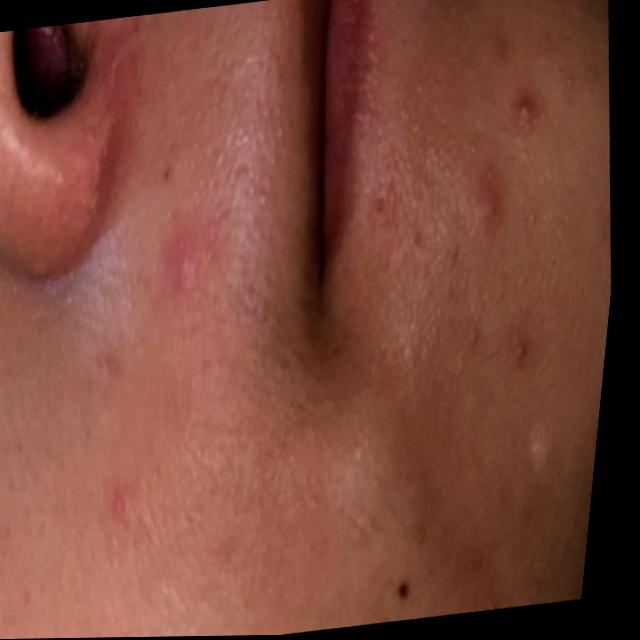papule: (464, 62, 566, 257), (169, 217, 223, 337)
